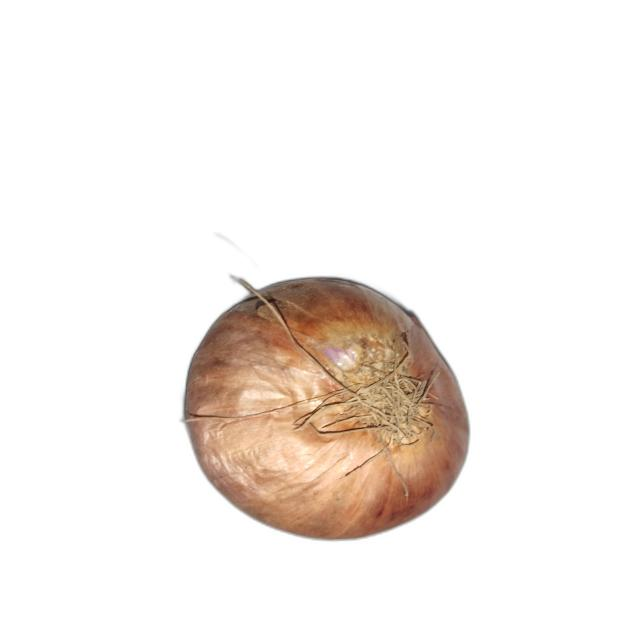onion: (184, 277, 474, 542)
